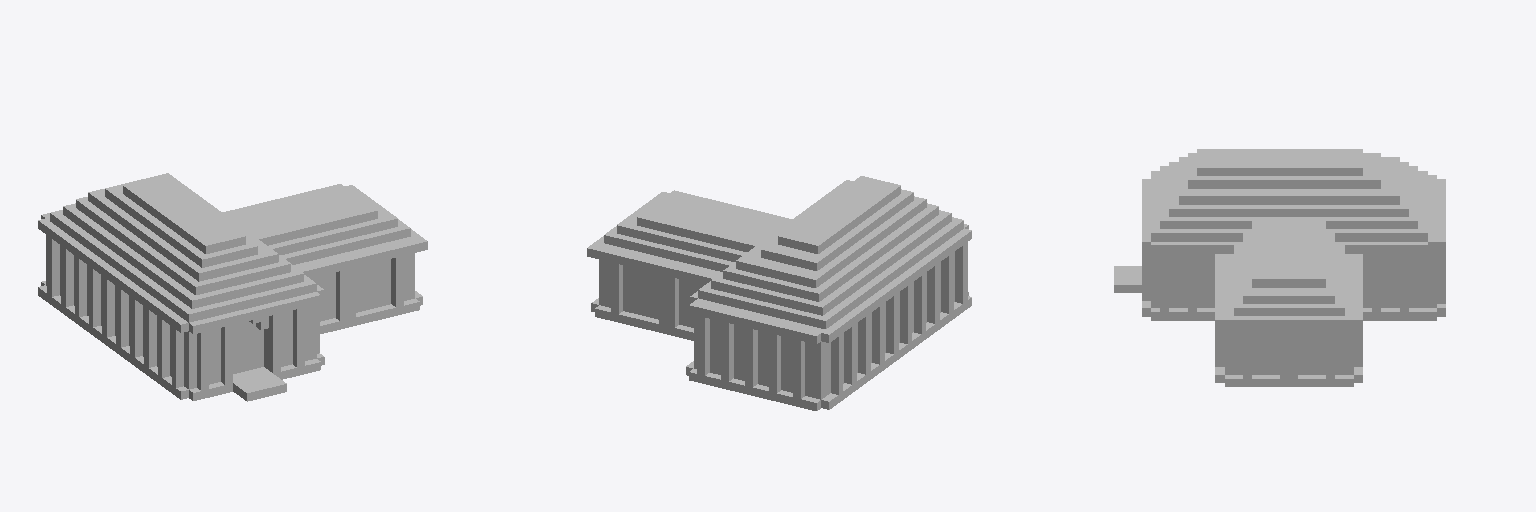
Rendered from Church.obj.
3 renders of one model, left to right at view 1: azimuth 30°, elevation 25°; view 2: azimuth 150°, elevation 25°; view 3: azimuth 270°, elevation 25°, orthographic.
Visible parts, largest first — view 1: object 1; view 2: object 1; view 3: object 1.
Part boxes in pixels (x1,y1,x2,y2): object 1: (38, 173, 427, 401); object 1: (587, 176, 971, 410); object 1: (1114, 149, 1445, 386).
Size of the model in its own units: 3.5 by 1.5 by 3.6.